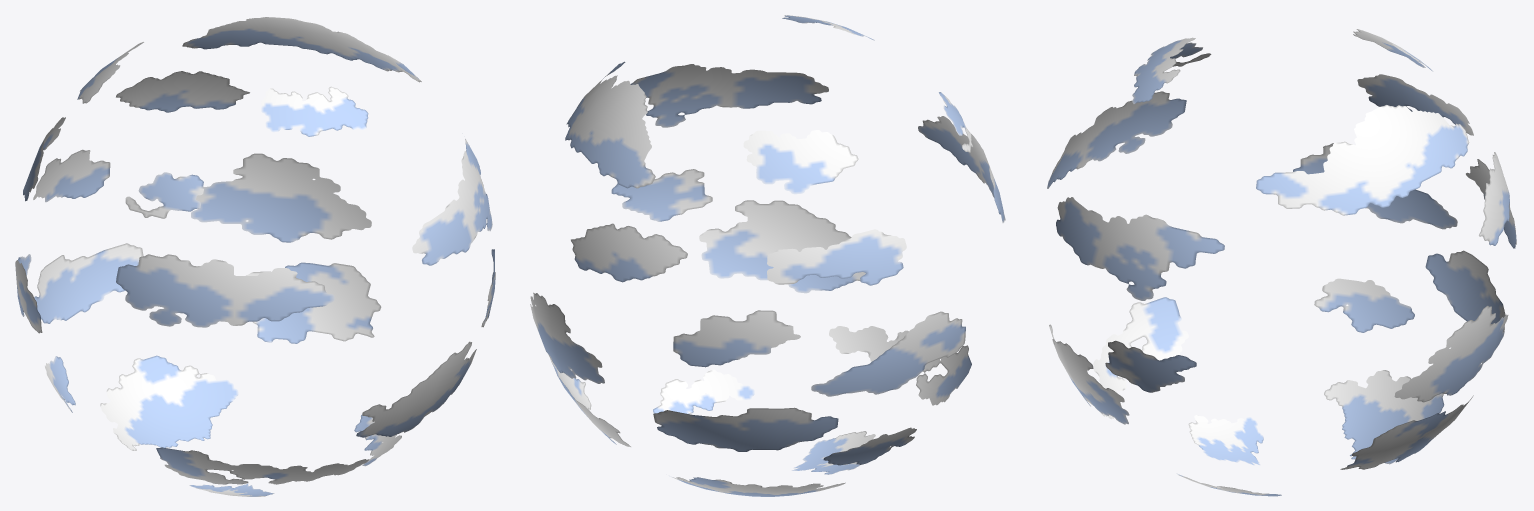
File: EarthClouds.fbx
3 views of the same model, side by side, from view 1: azimuth 30°, elevation 25°; view 2: azimuth 150°, elevation 25°; view 3: azimuth 270°, elevation 25° (orthographic).
Visible parts, largest first — view 1: Sphere; view 2: Sphere; view 3: Sphere.
Part boxes in pixels (x1=…): Sphere: x1=15, y1=17, x2=495, y2=496; Sphere: x1=530, y1=15, x2=1005, y2=496; Sphere: x1=1047, y1=29, x2=1516, y2=496.
Size of the model in its own units: 360 by 360 by 360.
